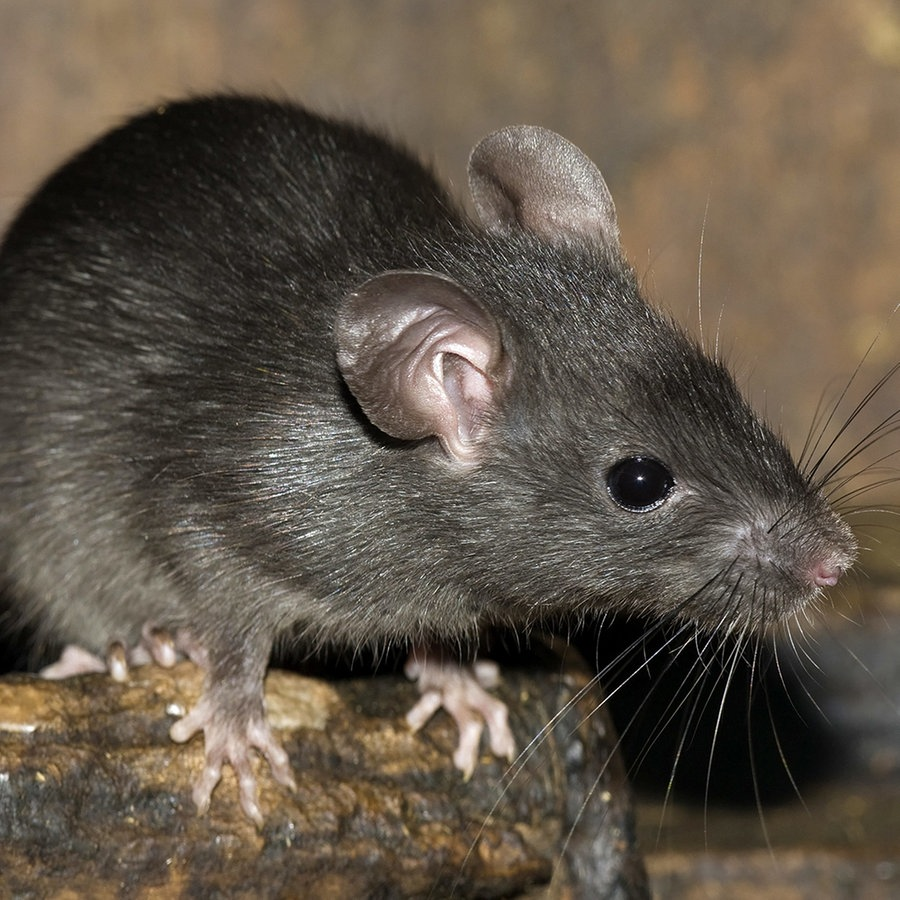rat: (4, 72, 879, 805)
